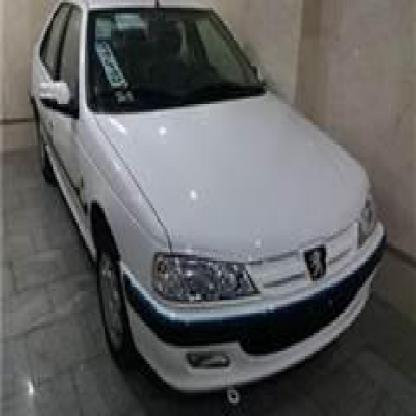car: (26, 0, 384, 414)
